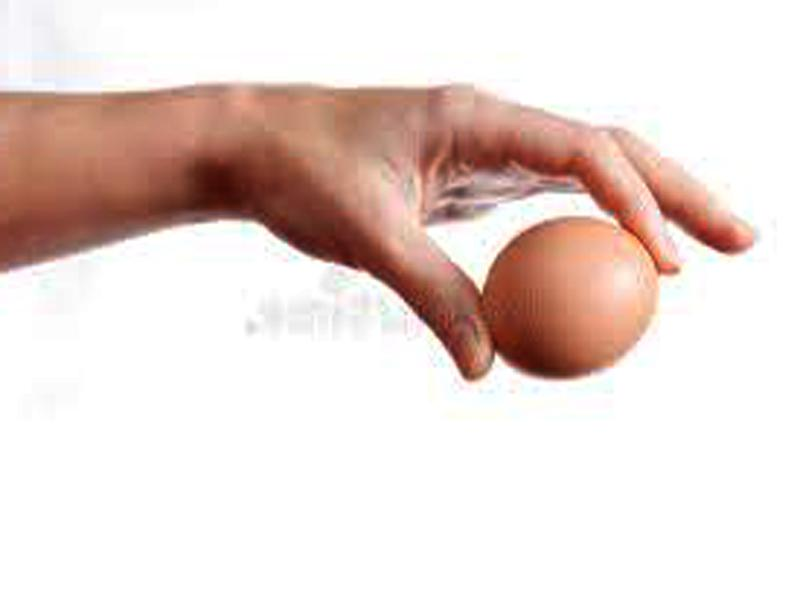Eggs: (479, 220, 656, 377)
